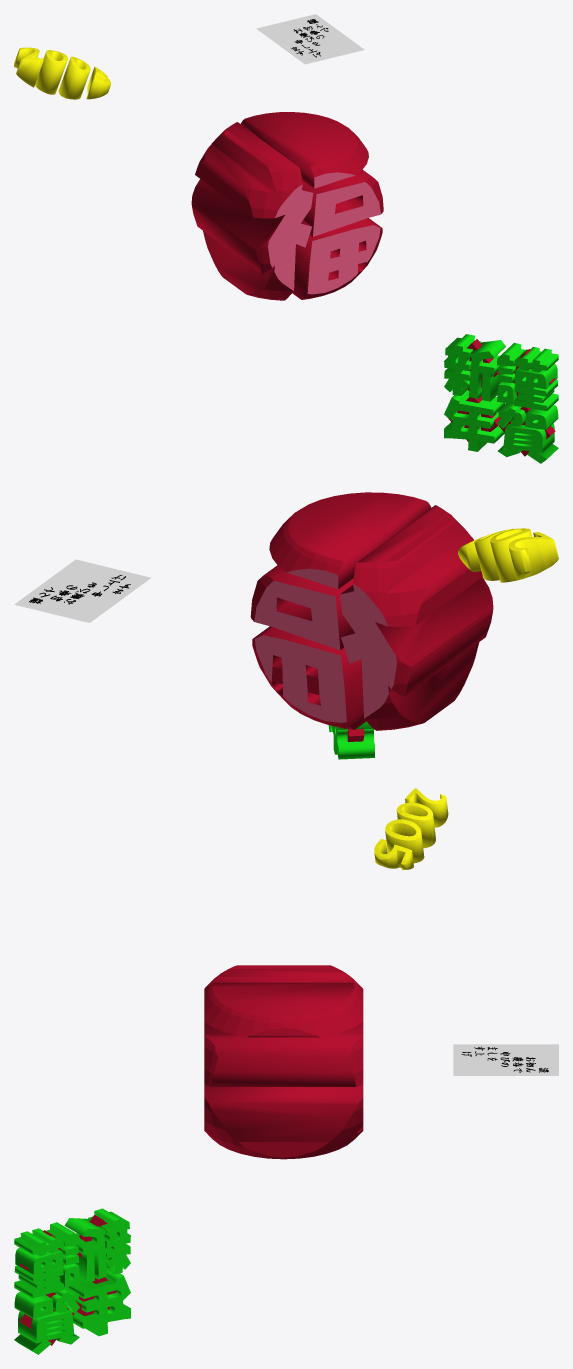
3 views of the same model, one above another, from view 1: azimuth 30°, elevation 25°; view 2: azimuth 150°, elevation 25°; view 3: azimuth 270°, elevation 25° (orthographic). The views are drawn at different scales.
Parts seen in each view (by area): view 1: 球, テキスト.001, 2005R, 謹んで台紙; view 2: 球, 謹んで台紙, 2005R, テキスト.001, 謹んで; view 3: 球, テキスト.001, 2005R, 謹んで台紙.
Part boxes in pixels (<box>): 球: <box>191,112,383,300</box>; テキスト.001: <box>444,334,558,463</box>; 2005R: <box>14,47,110,99</box>; 謹んで台紙: <box>256,14,364,64</box>; 球: <box>250,492,493,730</box>; 謹んで台紙: <box>14,559,151,622</box>; 2005R: <box>458,528,558,582</box>; テキスト.001: <box>328,721,374,759</box>; 謹んで: <box>29,575,130,604</box>; 球: <box>204,965,363,1159</box>; テキスト.001: <box>14,1208,130,1354</box>; 2005R: <box>374,788,448,869</box>; 謹んで台紙: <box>453,1044,558,1075</box>.
Size of the model in its own units: 3.25 by 2.99 by 3.88.
